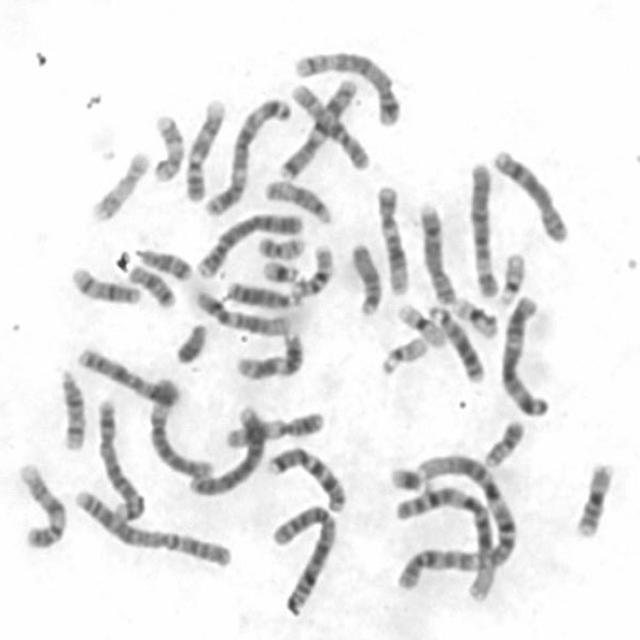A1: (392, 484, 497, 606), (416, 450, 517, 570)
A2: (69, 485, 236, 571), (268, 500, 340, 618)
A3: (202, 93, 294, 218), (494, 290, 552, 419)
B4: (193, 206, 306, 280), (185, 402, 268, 499)
B5: (291, 48, 403, 128), (92, 397, 146, 523)
C10: (284, 75, 368, 175), (395, 548, 484, 594)
C11: (218, 406, 328, 450), (232, 328, 305, 382)
C12: (191, 288, 296, 336), (373, 179, 410, 296)
C6: (144, 374, 216, 481), (464, 159, 500, 299)
C7: (276, 75, 359, 183), (264, 441, 349, 514)
C8: (488, 145, 571, 245), (416, 197, 458, 306)
C9: (13, 458, 68, 551), (181, 94, 227, 202)
D13: (426, 302, 487, 386), (223, 276, 303, 310)
D14: (67, 263, 143, 306), (54, 364, 88, 452)
D15: (260, 175, 335, 226), (347, 239, 385, 318)
E16: (570, 456, 618, 540), (288, 240, 335, 300)
E17: (86, 145, 152, 223), (149, 111, 186, 183)
E18: (126, 260, 179, 310), (130, 244, 194, 283)
F19: (393, 299, 448, 349), (449, 292, 501, 341)
F20: (479, 416, 526, 470), (254, 233, 307, 260)
G21: (386, 462, 431, 492), (258, 257, 300, 284)
G22: (377, 332, 431, 376), (492, 246, 528, 308)
X: (80, 343, 185, 410)
Y: (171, 319, 209, 366)
